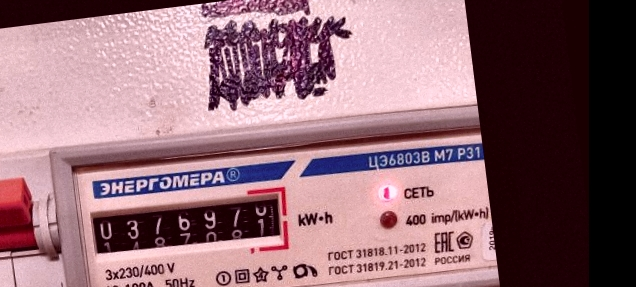0: (96, 216, 113, 240)
1: (254, 215, 267, 236)
3: (124, 217, 141, 239)
6: (174, 206, 192, 231)
7: (149, 210, 167, 236), (226, 203, 244, 228)
9: (201, 205, 217, 229)
screen: (80, 174, 296, 275)
